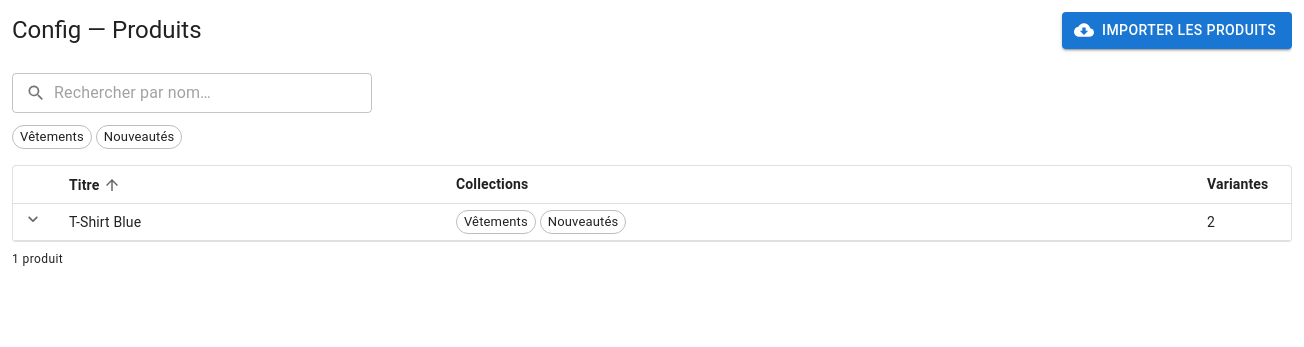
ConfigProductsPage › shows error alert when import fails
Expected: the text "T-Shirt Blue" is shown, x1=53 y1=203 x2=440 y2=240
Click the button "Importer les produits" at (1177, 30), box x1=1062 y1=12 x2=1292 y2=48
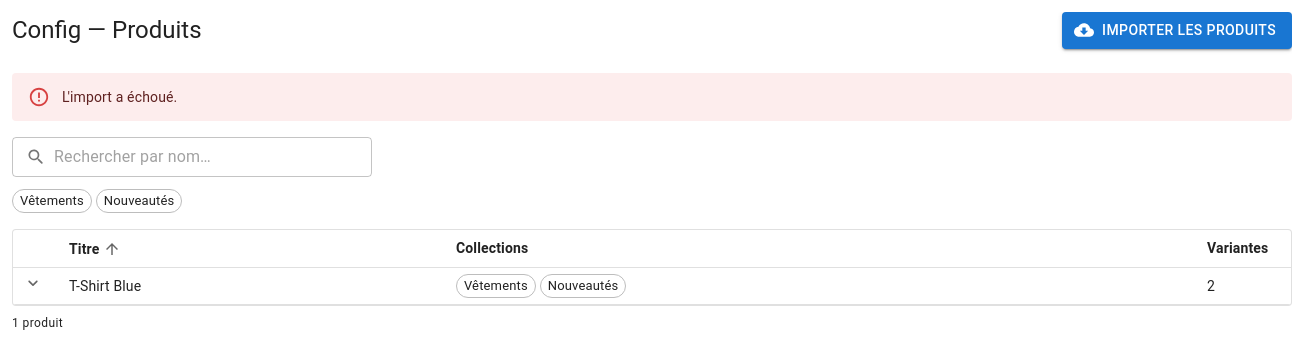
Now the text "L'import a échoué." is shown, box x1=62 y1=88 x2=177 y2=104
